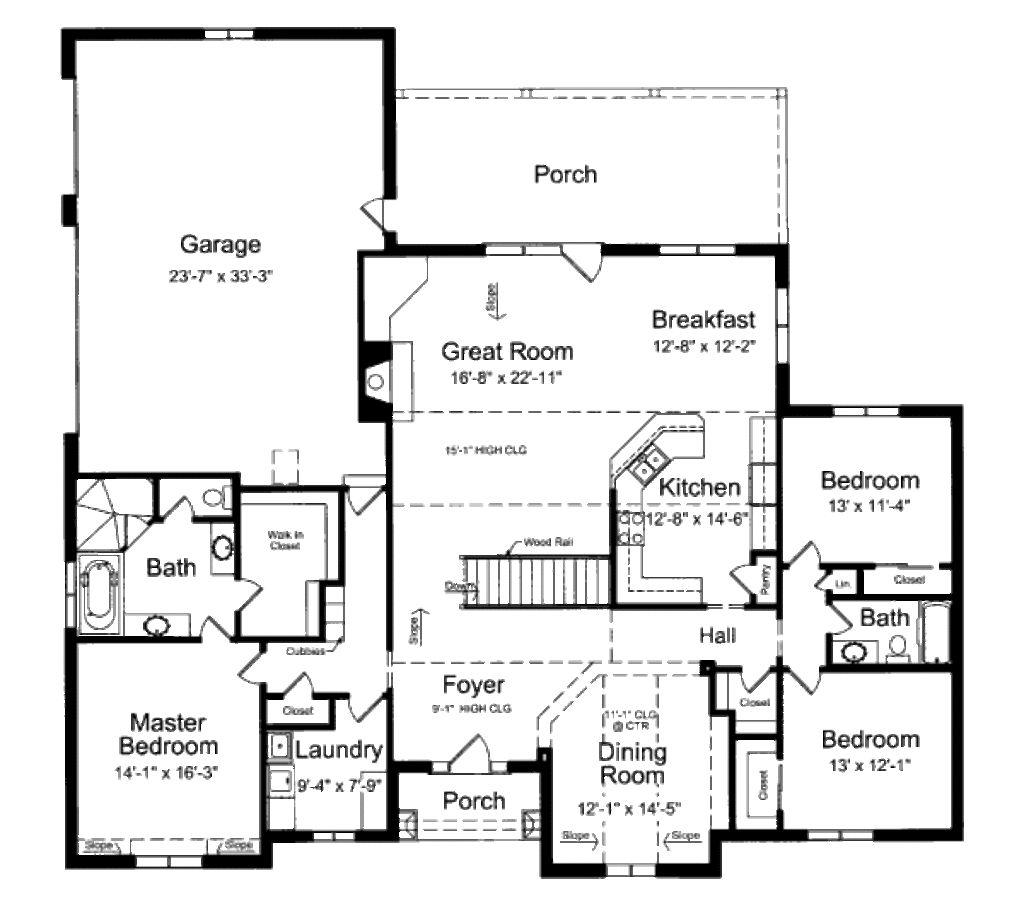door: (444, 730, 503, 779), (555, 236, 605, 287), (340, 676, 392, 725), (728, 563, 779, 610), (340, 469, 382, 519), (267, 661, 318, 702), (351, 190, 402, 230), (777, 528, 822, 571), (154, 486, 201, 523), (118, 514, 161, 553), (235, 640, 272, 685), (184, 606, 234, 637), (737, 658, 771, 700), (784, 659, 822, 693), (823, 597, 857, 634), (234, 572, 265, 607)
large_sink: (196, 475, 232, 515), (879, 627, 911, 666)
small_sink: (208, 522, 238, 576), (128, 612, 187, 636), (832, 640, 880, 665)
stairs: (442, 547, 607, 623)
tub: (77, 559, 122, 635), (918, 601, 951, 666)
twin_sink: (619, 433, 686, 492)
window: (814, 825, 882, 847), (130, 849, 198, 869), (602, 859, 659, 879), (199, 23, 253, 44), (314, 827, 363, 839)
